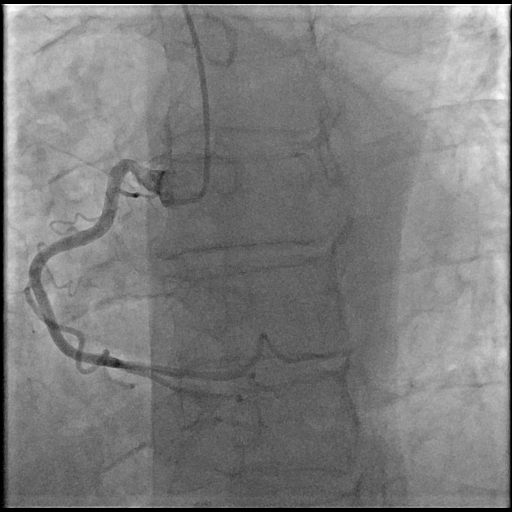RCA: (29, 159, 196, 384)
catherter: (158, 6, 211, 206)
